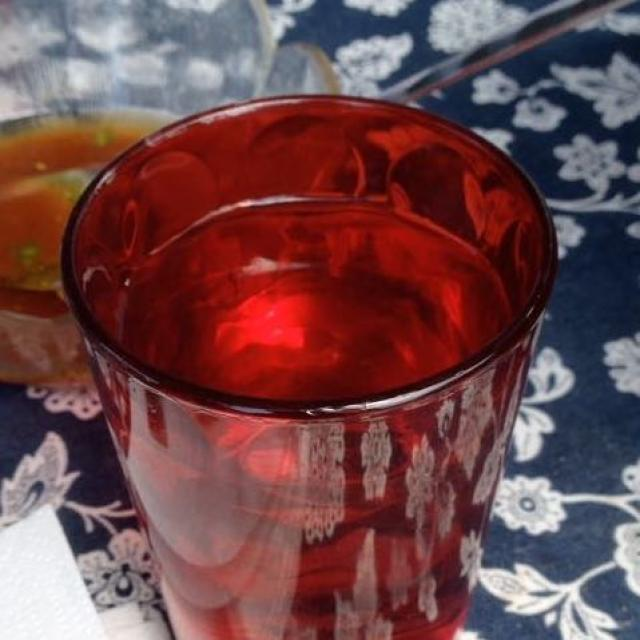water: (104, 165, 519, 410)
